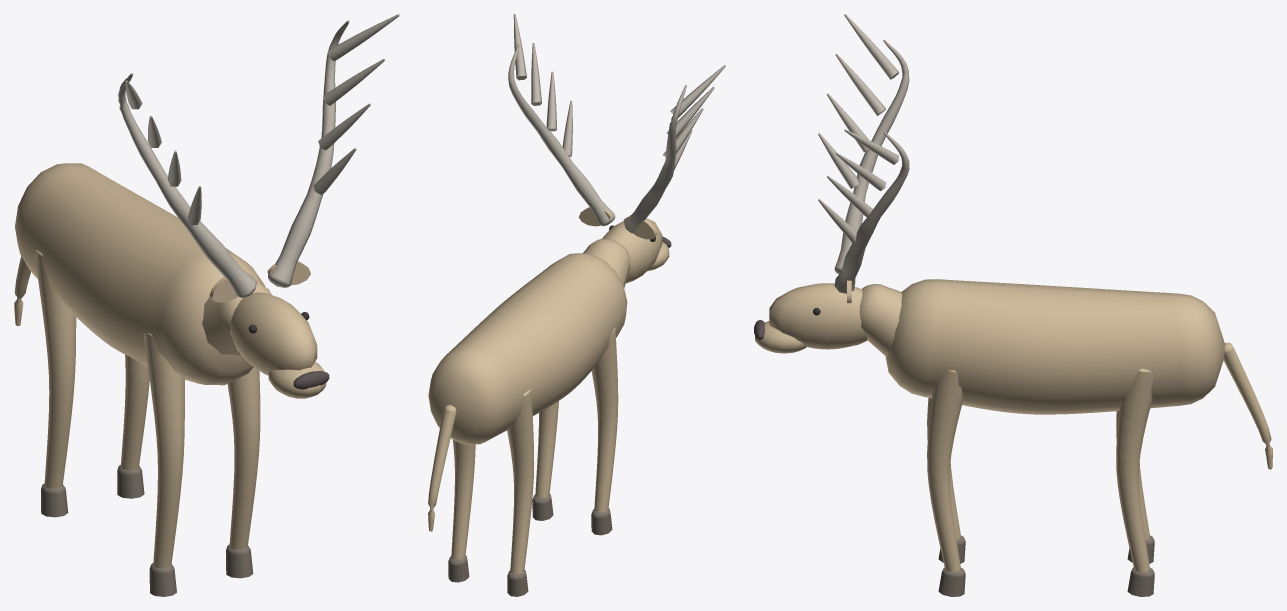
File: turtle_orange.glb
3 views of the same model, side by side, from view 1: azimuth 30°, elevation 25°; view 2: azimuth 150°, elevation 25°; view 3: azimuth 270°, elevation 25° (orthographic). The views are drawn at different scales.
Parts seen in each view (by area): view 1: caribou-bull; view 2: caribou-bull; view 3: caribou-bull.
Part boxes in pixels (bbox=[...]): caribou-bull: bbox=[14, 14, 399, 596]; caribou-bull: bbox=[428, 14, 725, 596]; caribou-bull: bbox=[754, 14, 1272, 596].
Size of the model in its own units: 1.27 by 2.57 by 2.39.
